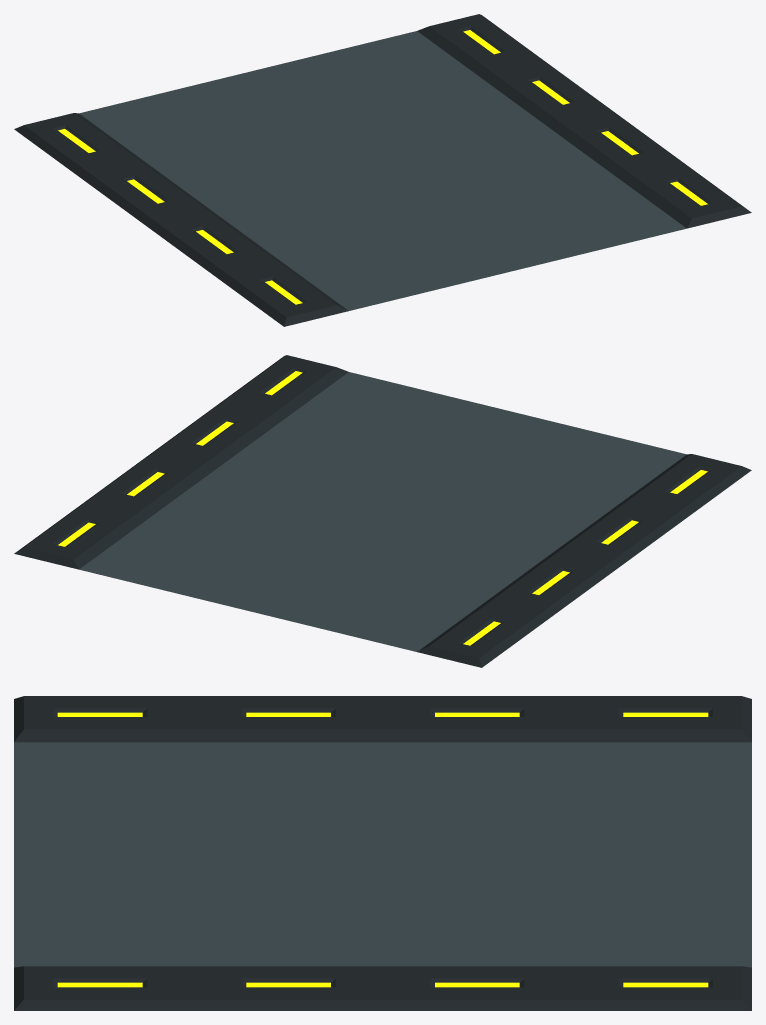
Rendered from floorStraight.fbx.
The picture shows the model from 3 angles, top to bottom: view 1: azimuth 30°, elevation 25°; view 2: azimuth 150°, elevation 25°; view 3: azimuth 270°, elevation 25°; orthographic projection. The views are drawn at different scales.
Visible parts, largest first — view 1: floorStraight; view 2: floorStraight; view 3: floorStraight.
Part boxes in pixels (x1=…): floorStraight: x1=14, y1=14, x2=751, y2=326; floorStraight: x1=14, y1=355, x2=751, y2=667; floorStraight: x1=14, y1=696, x2=751, y2=1010.
Size of the model in its own units: 2 by 2 by 0.0215.
